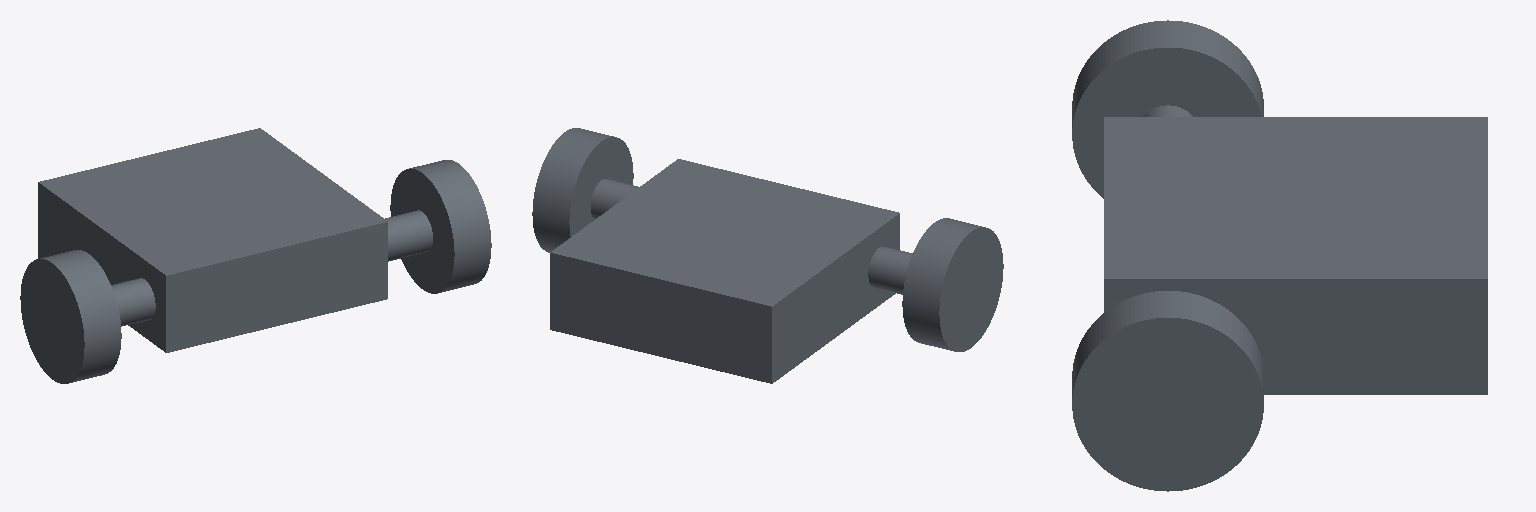
URDF robot description (2wheelv1):
<?xml version="1.0" ?>
<robot name="2wheelv1">
  <!--Generated by RobotCAD, a ROS Workbench for FreeCAD (https://github.com/drfenixion/freecad.robotcad)-->
  <link name="l_wheel005">
    <visual>
      <!--wheel005/wheel004.-->
      <origin rpy="0 0 0" xyz="0.171 0.0 -0.02"/>
      <geometry>
        <mesh filename="package://2wheelv1/meshes/_wheelert1_wheel1_lv2cq1.dae"/>
      </geometry>
    </visual>
    <collision>
      <!--col__l_wheel005__col_wheel1_col_obj/col_wheel1_col_obj.-->
      <origin rpy="0 0 0" xyz="0.0 0.0 -0.02"/>
      <geometry>
        <mesh filename="package://2wheelv1/meshes/_wheelert1_col_wheel1_col_obj_krguef.dae"/>
      </geometry>
    </collision>
    <inertial>
      <mass value="0.06126105674500096"/>
      <origin rpy="0 0 0" xyz="0.0 0.0 -0.014"/>
      <inertia ixx="4.201495275094699e-06" ixy="8.932748619433424e-23" ixz="1.933130988618359e-22" iyy="4.201495275094635e-06" iyz="-9.470240735789926e-23" izz="6.279266116362636e-06"/>
    </inertial>
  </link>
  <link name="l_wheel003">
    <visual>
      <!--wheel003/wheel003.-->
      <origin rpy="0 0 0" xyz="0.0 0.0 -0.02"/>
      <geometry>
        <mesh filename="package://2wheelv1/meshes/_wheelert1_wheel2_sx7jdn.dae"/>
      </geometry>
    </visual>
    <collision>
      <!--col__l_wheel003__col_wheel2_col_obj/col_wheel2_col_obj.-->
      <origin rpy="0 0 0" xyz="0.0 0.0 -0.02"/>
      <geometry>
        <mesh filename="package://2wheelv1/meshes/_wheelert1_col_wheel2_col_obj_7jhweq.dae"/>
      </geometry>
    </collision>
    <inertial>
      <mass value="0.06126105674500096"/>
      <origin rpy="0 0 0" xyz="0.0 0.0 -0.014"/>
      <inertia ixx="4.201495275094699e-06" ixy="8.932748619433424e-23" ixz="1.933130988618359e-22" iyy="4.201495275094635e-06" iyz="-9.470240735789926e-23" izz="6.279266116362636e-06"/>
    </inertial>
  </link>
  <link name="l_chassis001">
    <visual>
      <!--chassis001/chassis001.-->
      <origin rpy="0 0 0" xyz="0.3 0.3 0.3"/>
      <geometry>
        <mesh filename="package://2wheelv1/meshes/_wheelert1_chassis_iup9wg.dae"/>
      </geometry>
    </visual>
    <collision>
      <!--col__l_chassis001__col_chassis_col_obj/col_chassis_col_obj.-->
      <origin rpy="0 0 0" xyz="0.3 0.3 0.3"/>
      <geometry>
        <mesh filename="package://2wheelv1/meshes/_wheelert1_col_chassis_col_obj_vyrpdu.dae"/>
      </geometry>
    </collision>
    <inertial>
      <mass value="0.5677261056745002"/>
      <origin rpy="0 0 0" xyz="0.215741 0.235392 0.31"/>
      <inertia ixx="0.00018970058464682648" ixy="0.0" ixz="2.9057264328002926e-19" iyy="0.00019372175779931201" iyz="1.7434358596801756e-19" izz="0.00034590575832520604"/>
    </inertial>
  </link>
  <joint name="l_chassis001__to__l_wheel003" type="continuous">
    <parent link="l_chassis001"/>
    <child link="l_wheel003"/>
    <origin rpy="0 1.5707963267948963 0" xyz="0.180741 0.215608 0.31"/>
    <axis xyz="0 0 1"/>
  </joint>
  <joint name="l_chassis001__to__l_wheel005" type="continuous">
    <parent link="l_chassis001"/>
    <child link="l_wheel005"/>
    <origin rpy="3.141592653589793 1.5707963267948963 0" xyz="0.250741 0.215608 0.31"/>
    <axis xyz="0 0 1"/>
  </joint>
</robot>

--- What the picture shows (computed from the rendered views, not written in the file) ---
Views: 3 orthographic renders of the robot side by side, from view 1: azimuth 30°, elevation 25°; view 2: azimuth 150°, elevation 25°; view 3: azimuth 270°, elevation 25°.
Robot: 2wheelv1 — 3 links, 2 joints (2 continuous); root link l_chassis001; default pose: every joint at zero.
Visible links, largest first — view 1: l_chassis001, l_wheel003, l_wheel005; view 2: l_chassis001, l_wheel003, l_wheel005; view 3: l_chassis001, l_wheel005, l_wheel003.
Boxes of the visible links, box(x1,y1,x2,y2) form: l_chassis001: box(38, 128, 395, 352); l_wheel003: box(20, 250, 136, 383); l_wheel005: box(385, 160, 491, 293); l_chassis001: box(550, 159, 900, 383); l_wheel003: box(887, 218, 1003, 351); l_wheel005: box(532, 128, 638, 252); l_chassis001: box(1104, 117, 1487, 394); l_wheel005: box(1072, 291, 1263, 491); l_wheel003: box(1072, 20, 1263, 198).
Bounding box of the posed robot: 0.11 × 0.065 × 0.03 m (x, y, z).
3 mesh visuals loaded from 3 distinct referenced files (3 Collada DAE).
